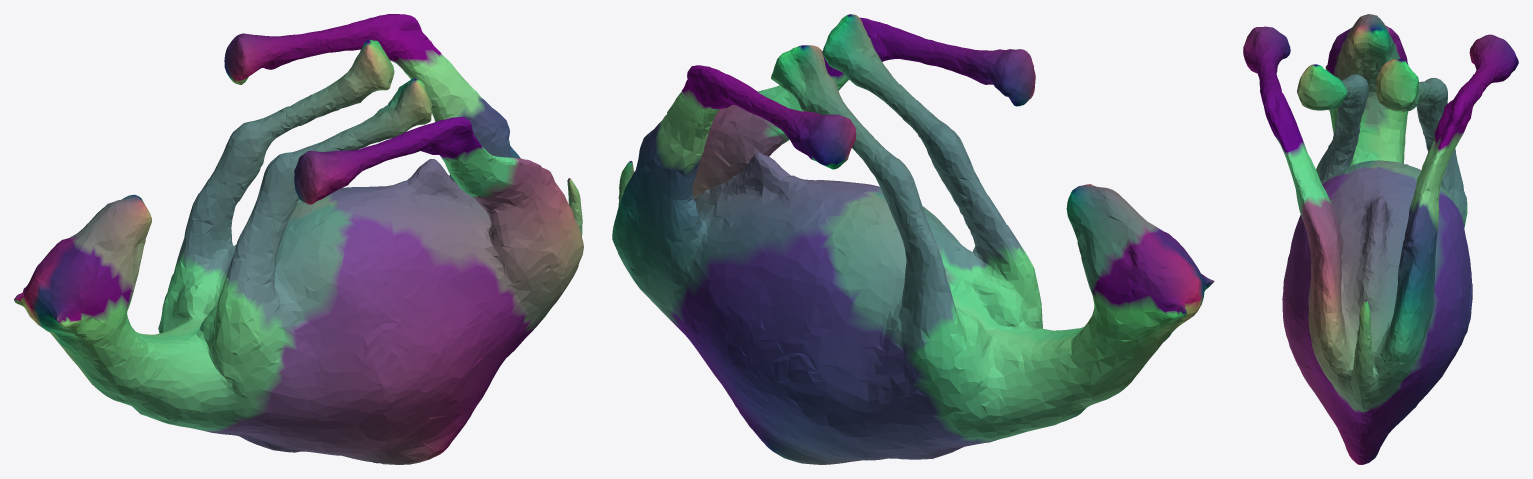
File: camel-9.off.obj
3 views of the same model, side by side, from view 1: azimuth 30°, elevation 25°; view 2: azimuth 150°, elevation 25°; view 3: azimuth 270°, elevation 25° (orthographic). The views are drawn at different scales.
Size of the model in its own units: 1.54 by 1.1 by 0.7128.
